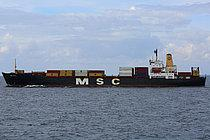Ship: (2, 45, 210, 94)
